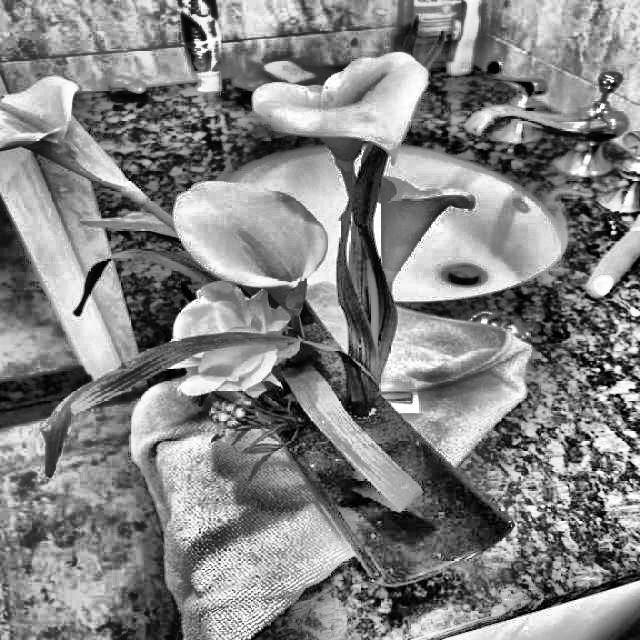plants: (19, 97, 494, 534)
